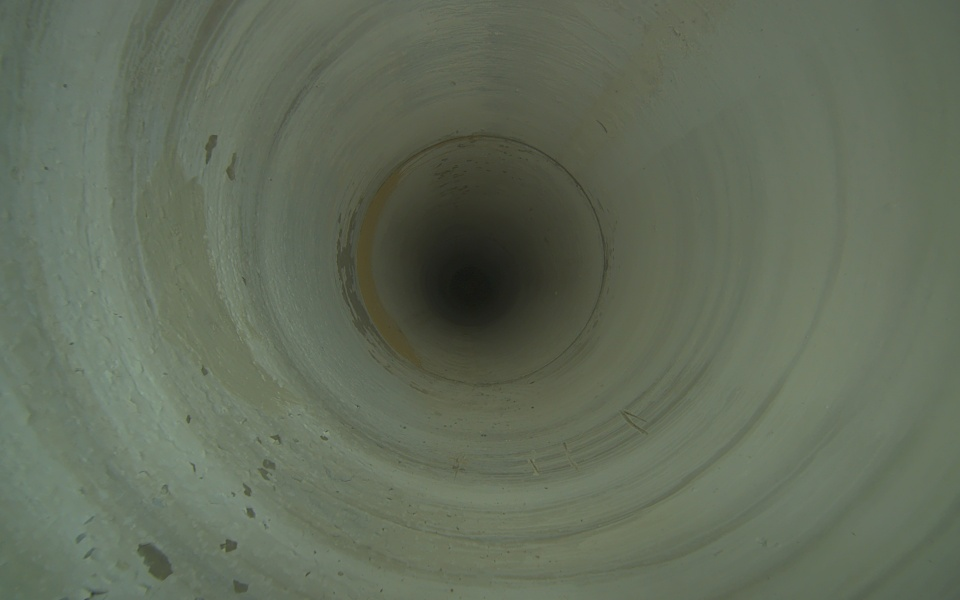circle1: (345, 130, 612, 388)
circle2: (451, 266, 493, 310)
